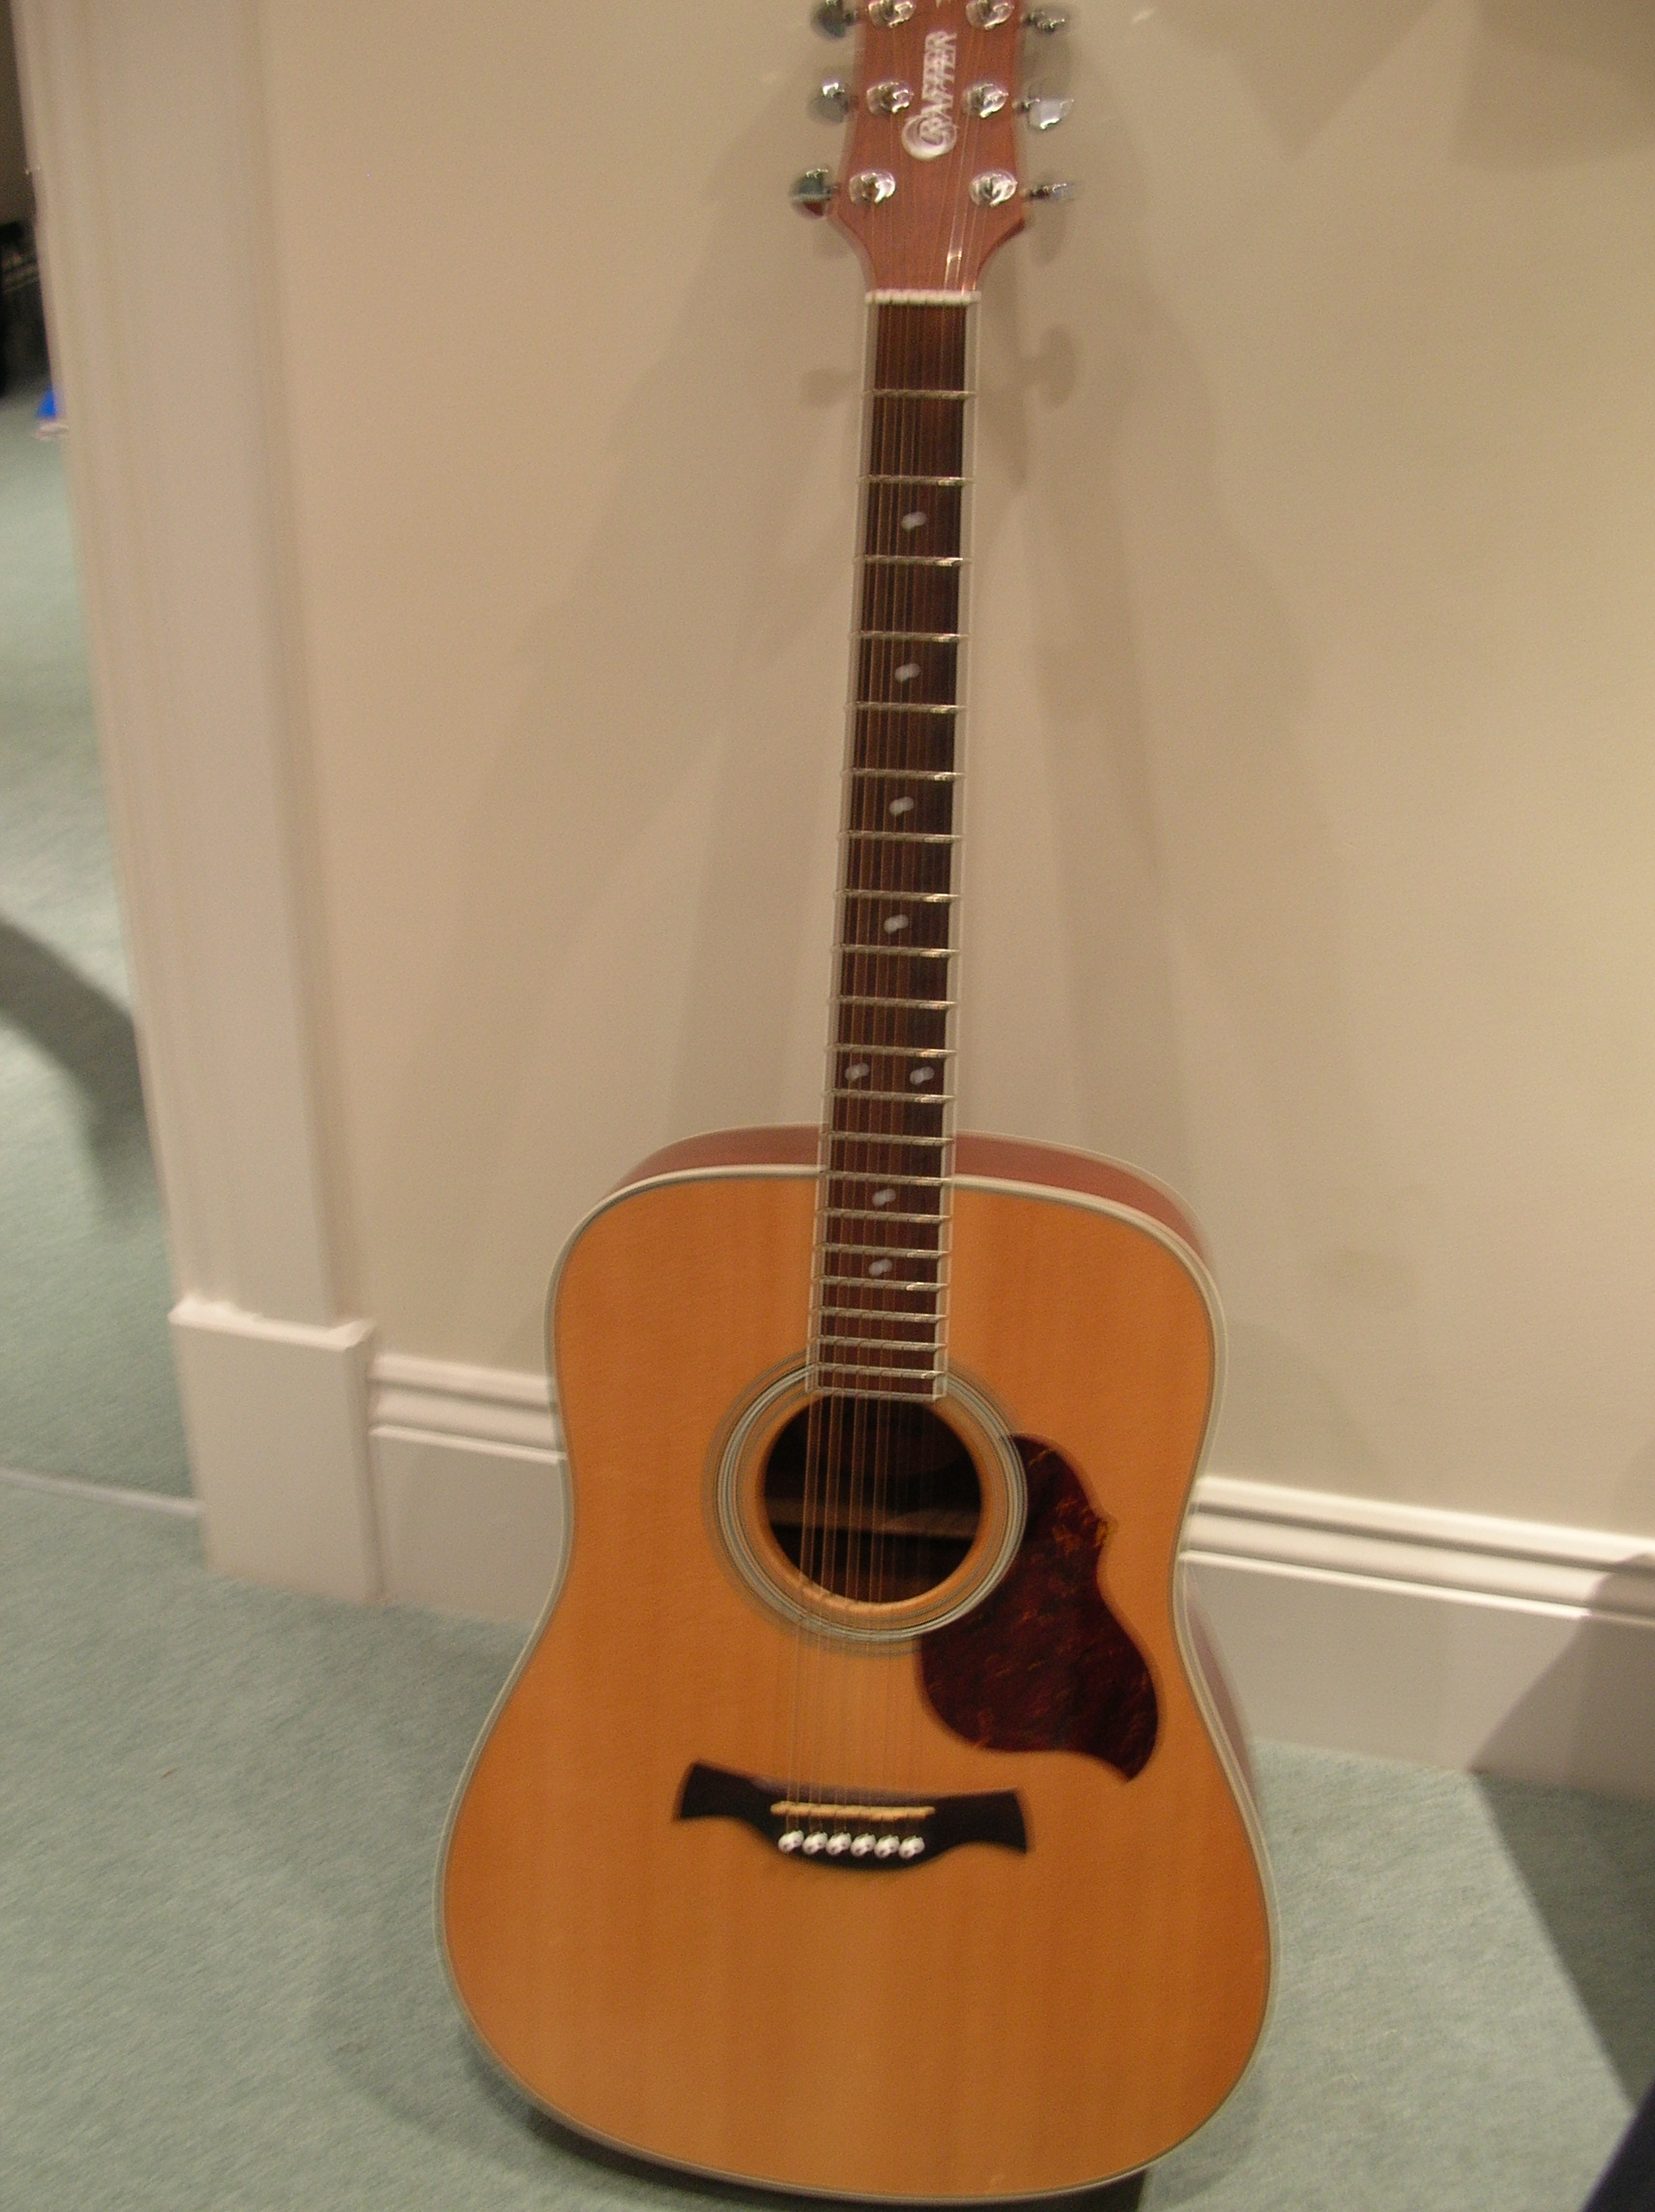guitar: (426, 2, 1279, 2207)
